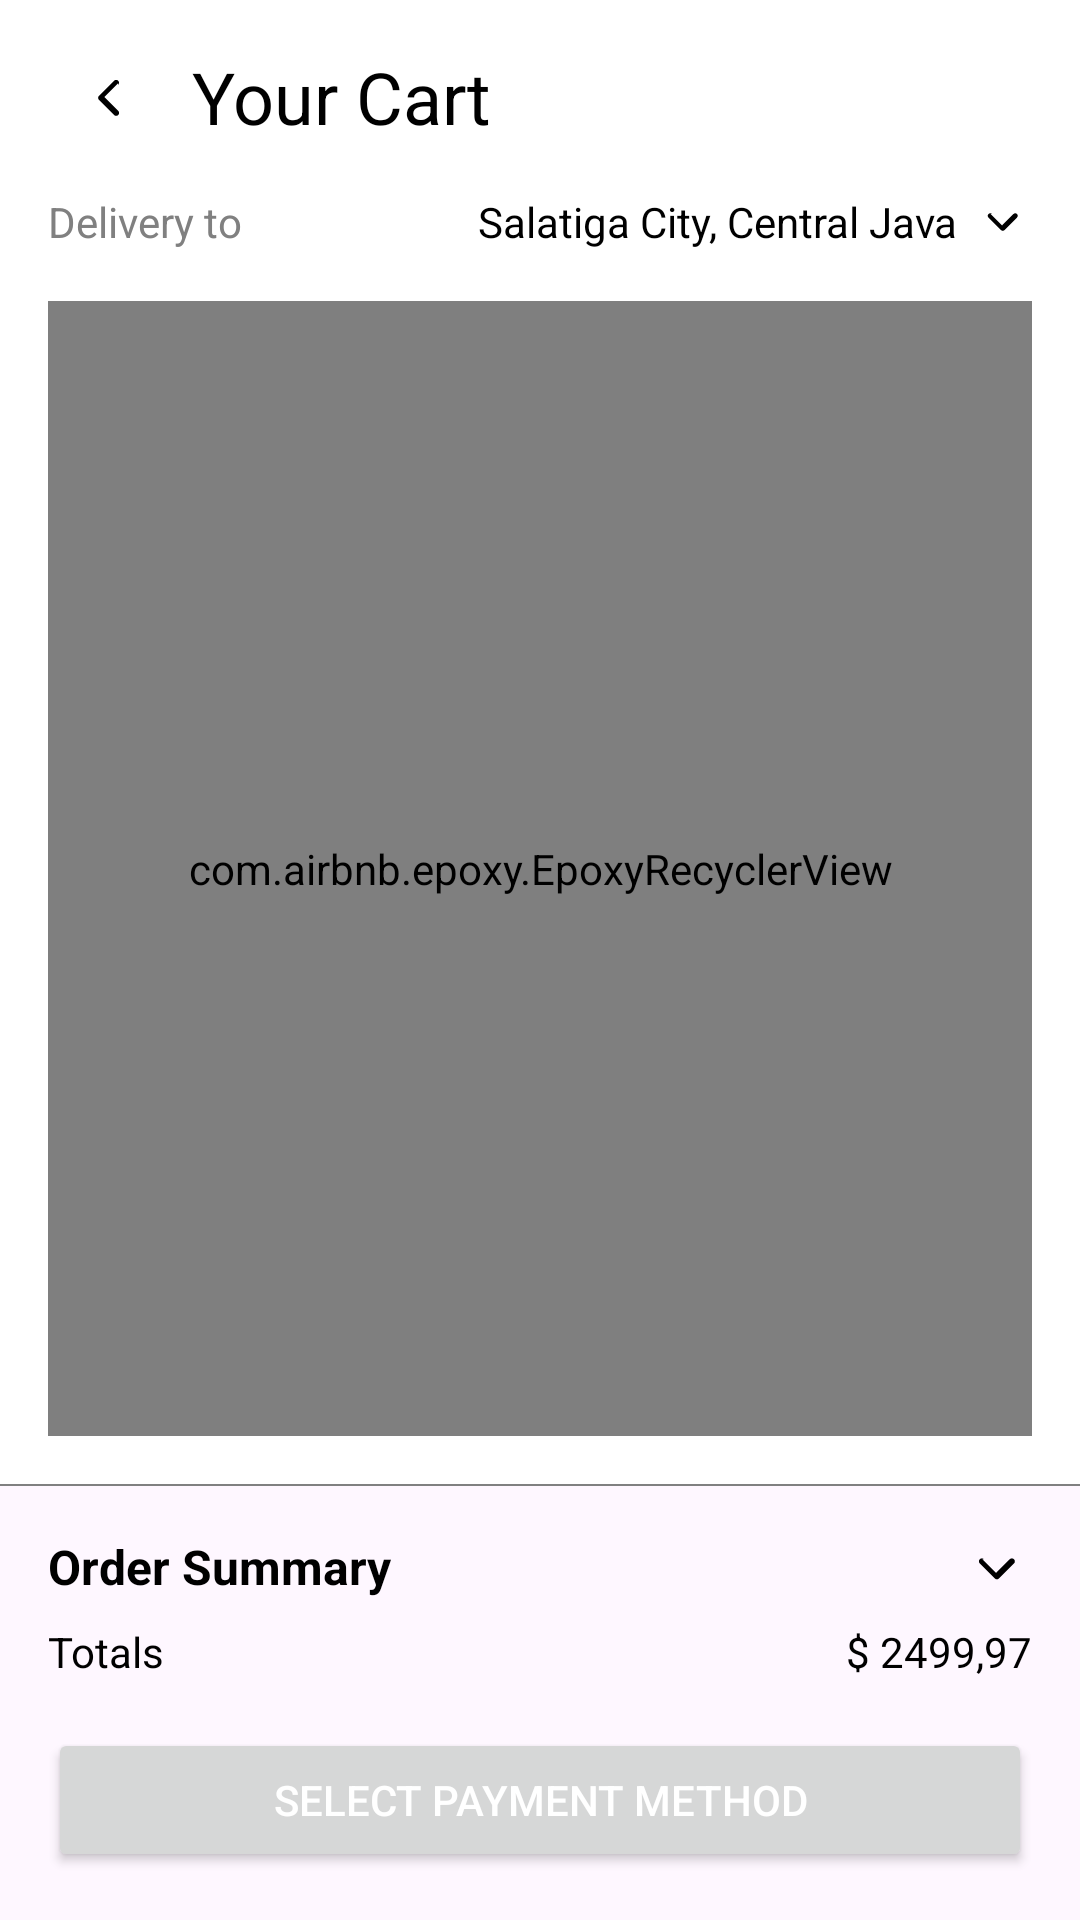

Icons on this 1080x1920 Android screen, each with its box as (x1, y1, x2, y2):
back arrow: (98, 80, 119, 116)
